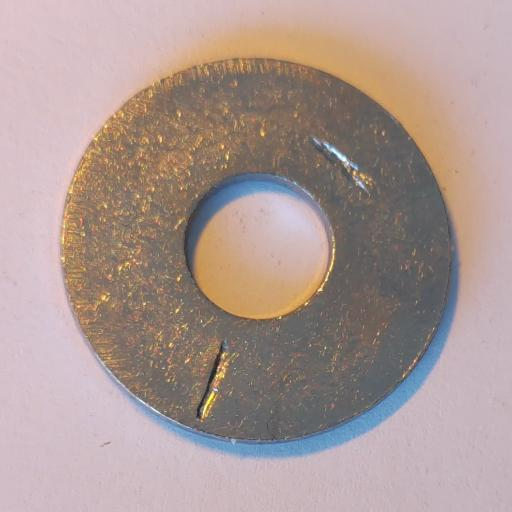scratch: (311, 137, 376, 201), (196, 340, 230, 421)
